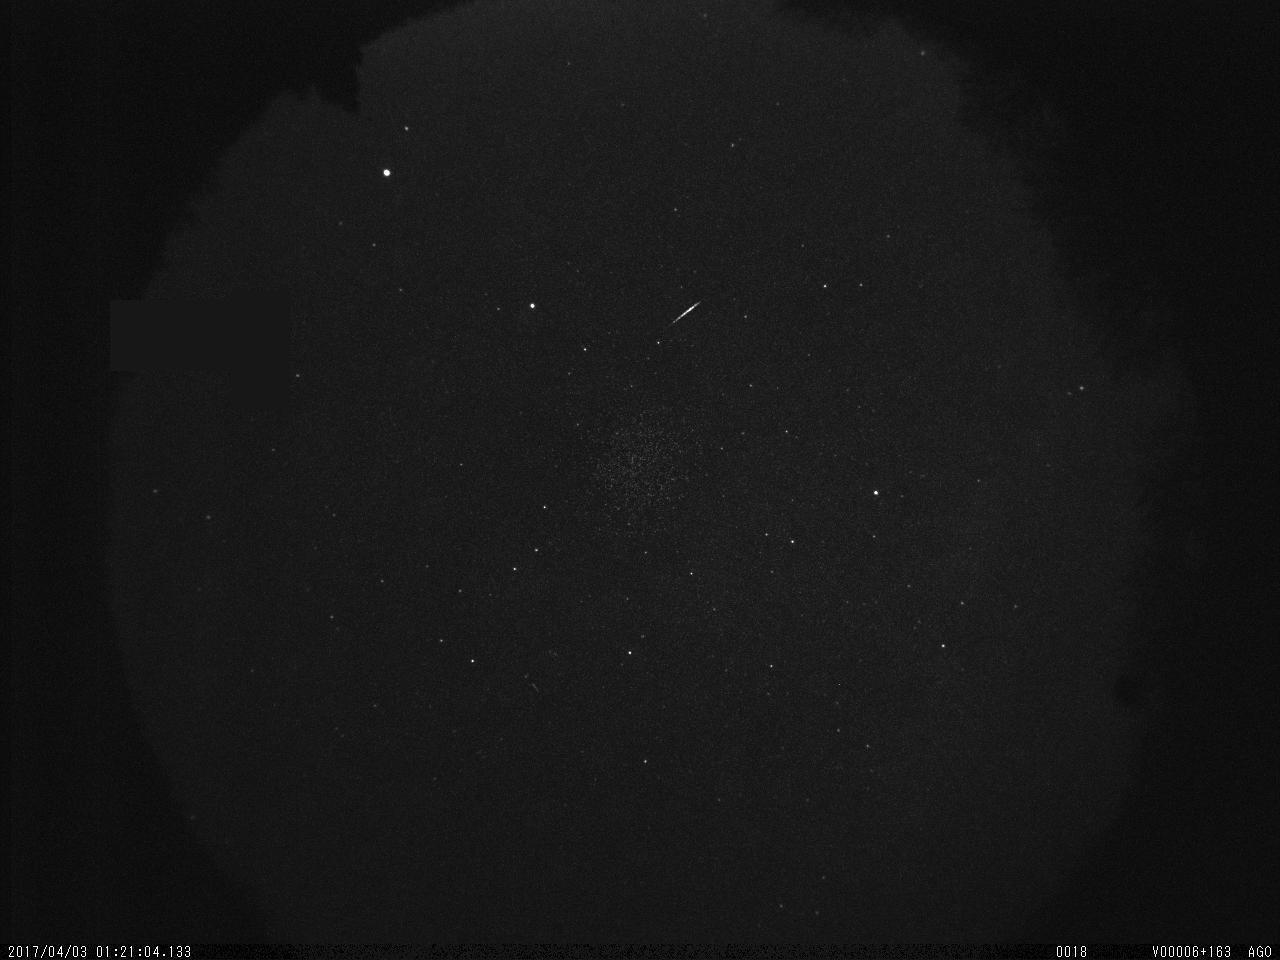meteor: (666, 296, 716, 329)
